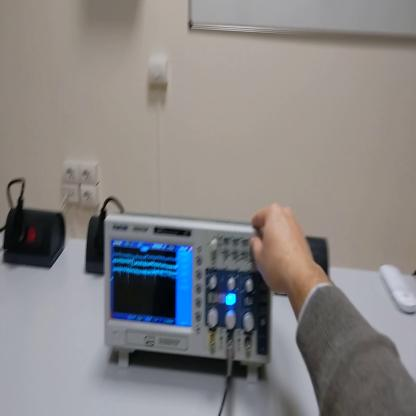hand: (250, 203, 314, 298)
oscilloscope: (100, 218, 268, 385)
socket: (7, 207, 68, 273), (87, 217, 104, 277)
